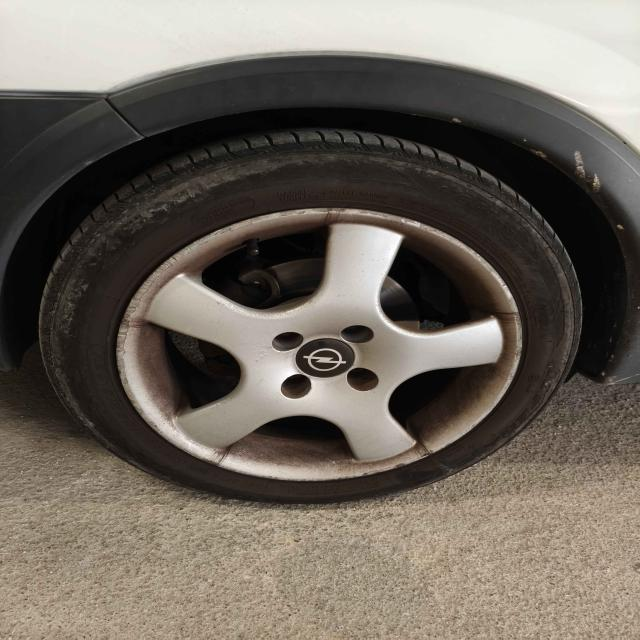jante: (114, 206, 524, 481)
parafuso: (337, 322, 381, 349), (279, 374, 314, 401), (346, 368, 380, 392), (266, 332, 303, 352)
roda: (38, 124, 582, 505)
